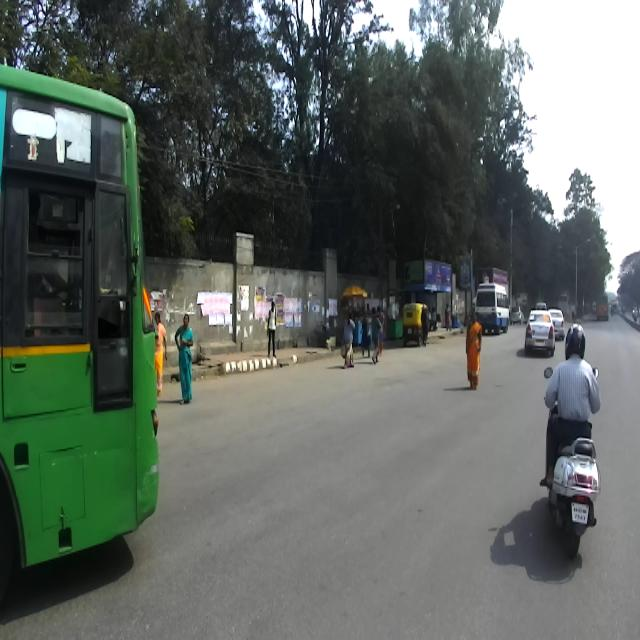motorcycle ahead at: (540, 430, 605, 554)
person ahead at: (461, 303, 490, 401)
